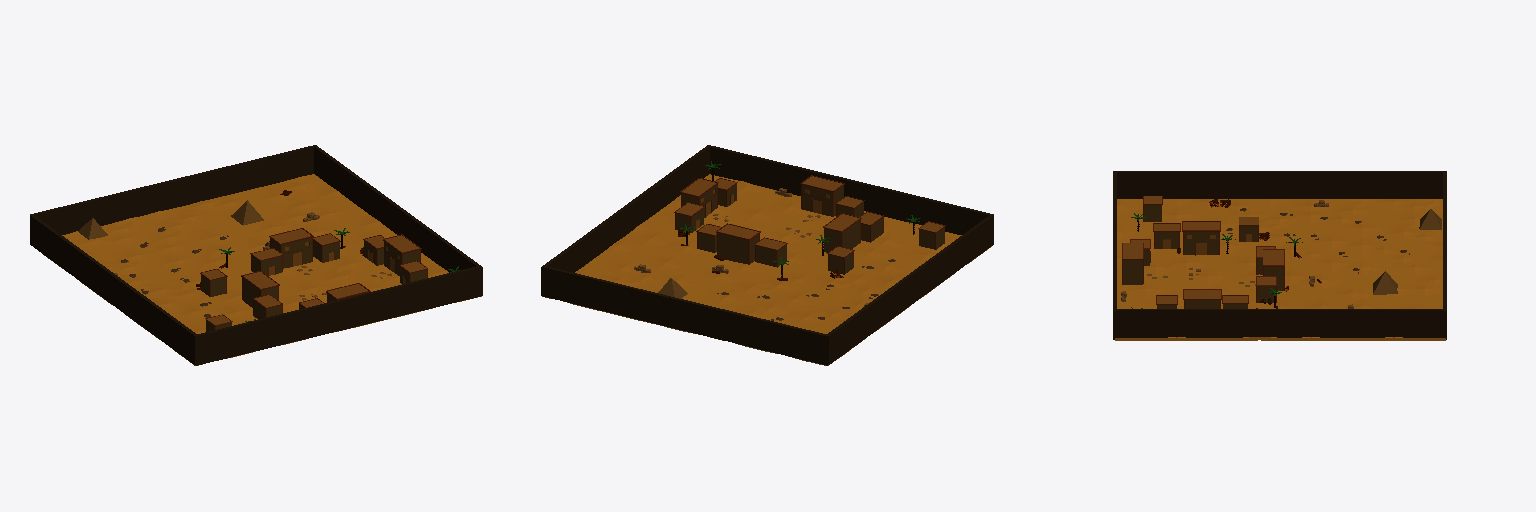
The model's file is Egypt_South.obj.
3 views of the same model, side by side, from view 1: azimuth 30°, elevation 25°; view 2: azimuth 150°, elevation 25°; view 3: azimuth 270°, elevation 25° (orthographic).
Parts seen in each view (by area): view 1: Plane.001_Plane.001_Material_001, Cube_145_001_Cube.229_Material_000, Cube_145_Cube.228_Material_000, Cube_145_002_Cube.230_Material_000, Cube_145_003_Cube.231_Material_000, Cube_003_Cube.224_Material_009; view 2: Plane.001_Plane.001_Material_001, Cube_145_Cube.228_Material_000, Cube_145_001_Cube.229_Material_000, Cube_145_002_Cube.230_Material_000, Cube_145_003_Cube.231_Material_000, Cube_003_Cube.224_Material_009, Cube_034_Cube.243_Material_009, Cube_053_Cube.203_Material_053; view 3: Plane.001_Plane.001_Material_001, Cube_145_003_Cube.231_Material_000, Cube_145_002_Cube.230_Material_000, Cube_145_001_Cube.229_Material_000, Cube_145_Cube.228_Material_000, Cube_053_Cube.203_Material_053.
Part boxes in pixels (x1,y1,x2,y2): Plane.001_Plane.001_Material_001: (44, 174, 481, 365); Cube_145_001_Cube.229_Material_000: (196, 265, 482, 365); Cube_145_Cube.228_Material_000: (30, 145, 314, 234); Cube_145_002_Cube.230_Material_000: (30, 215, 197, 364); Cube_145_003_Cube.231_Material_000: (314, 145, 479, 272); Cube_003_Cube.224_Material_009: (271, 238, 311, 268); Plane.001_Plane.001_Material_001: (542, 174, 991, 365); Cube_145_Cube.228_Material_000: (541, 265, 828, 365); Cube_145_001_Cube.229_Material_000: (709, 145, 993, 234); Cube_145_002_Cube.230_Material_000: (827, 215, 993, 364); Cube_145_003_Cube.231_Material_000: (543, 145, 709, 272); Cube_003_Cube.224_Material_009: (718, 233, 758, 263); Cube_034_Cube.243_Material_009: (802, 185, 843, 216); Cube_053_Cube.203_Material_053: (824, 220, 859, 252); Plane.001_Plane.001_Material_001: (1115, 199, 1445, 340); Cube_145_003_Cube.231_Material_000: (1115, 309, 1442, 337); Cube_145_002_Cube.230_Material_000: (1116, 171, 1444, 198); Cube_145_001_Cube.229_Material_000: (1113, 171, 1116, 339); Cube_145_Cube.228_Material_000: (1443, 171, 1446, 339); Cube_053_Cube.203_Material_053: (1184, 232, 1218, 254).
Size of the model in its own units: 309 by 31.54 by 311.